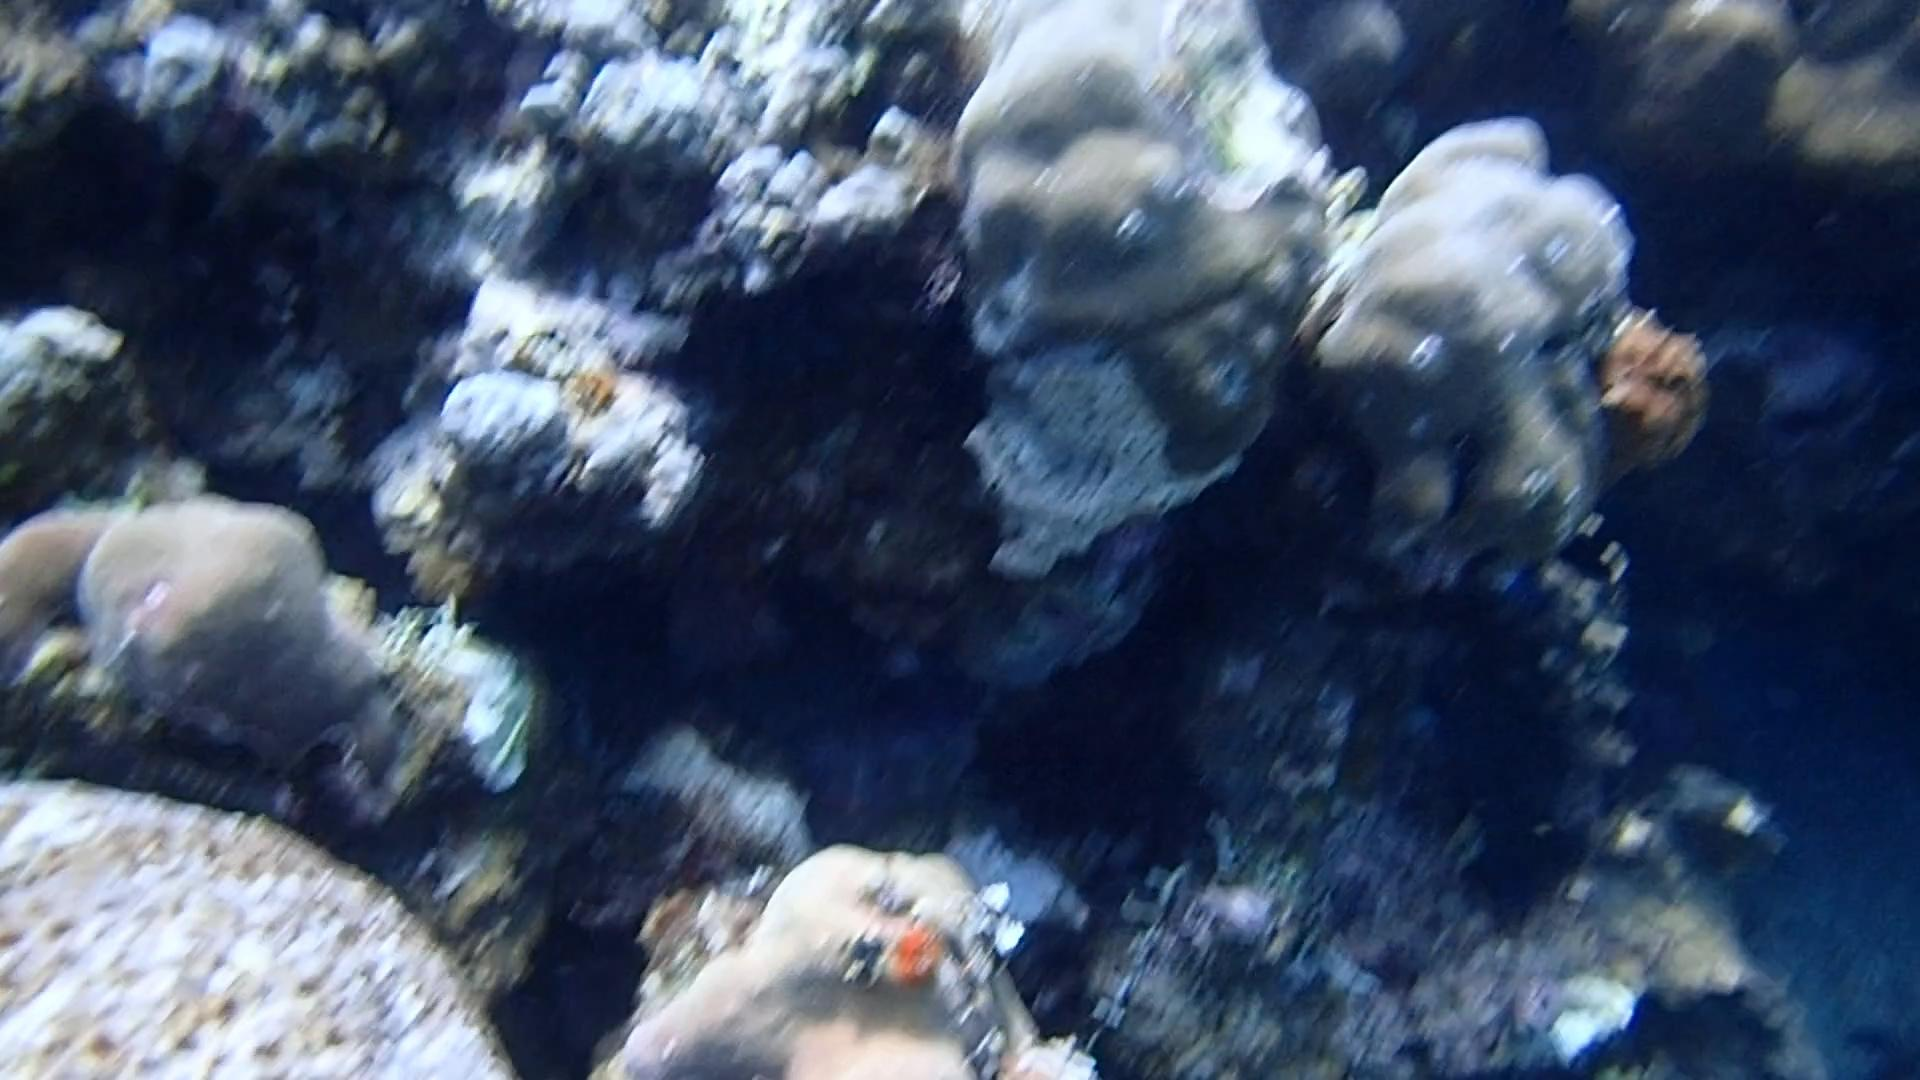Dark Fish: (1549, 521, 1633, 597)
